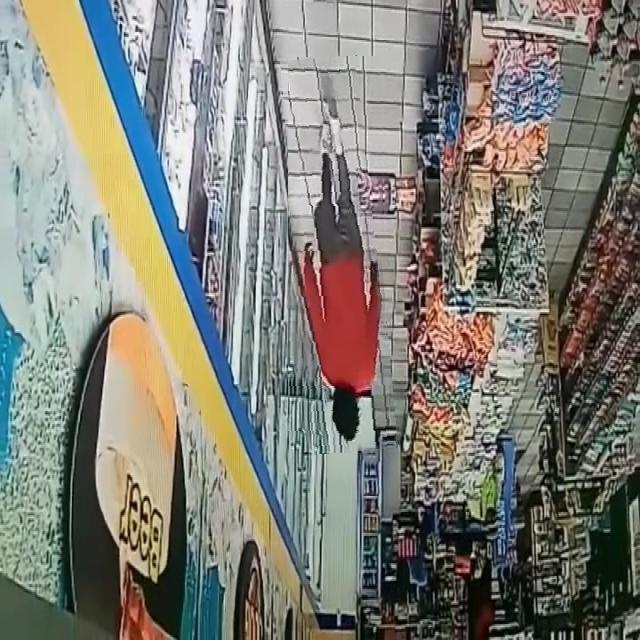normal: (288, 56, 389, 453)
